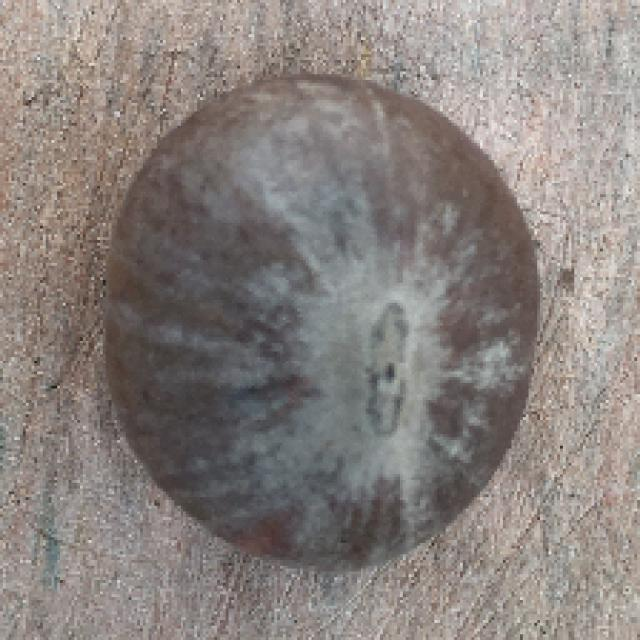damagedHazelnut: (95, 73, 552, 573)
